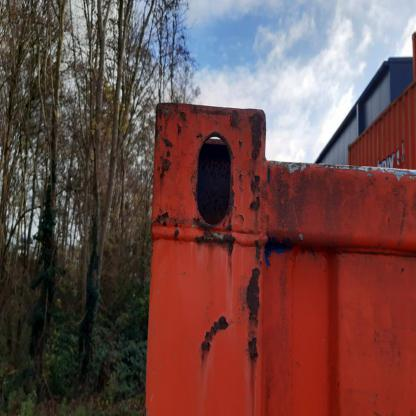CornerCasting: (146, 99, 268, 234)
